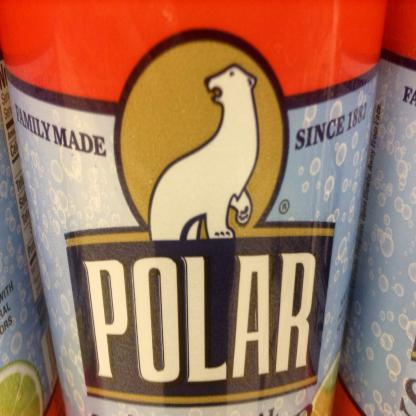Lemon: (0, 361, 45, 416)
